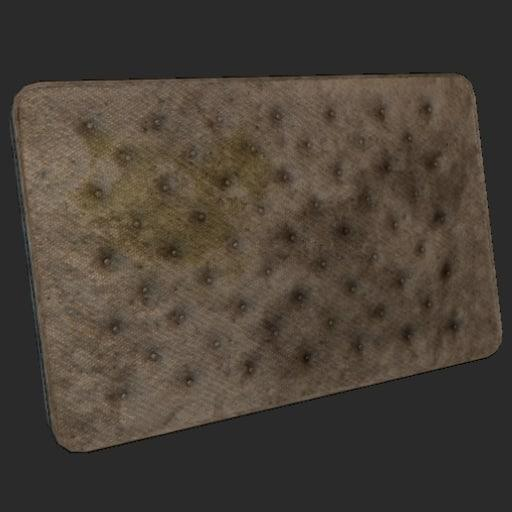Bed-Mattress: (12, 74, 502, 452)
